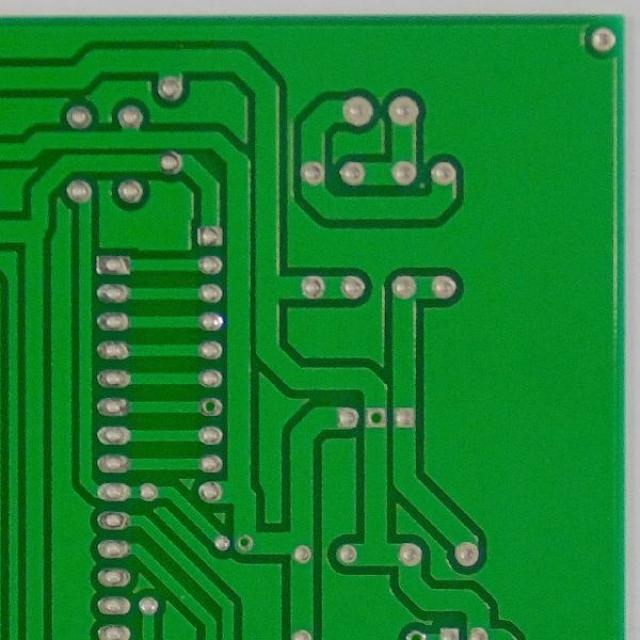missing_hole: (364, 403, 391, 431), (201, 396, 227, 419), (236, 532, 260, 555)
